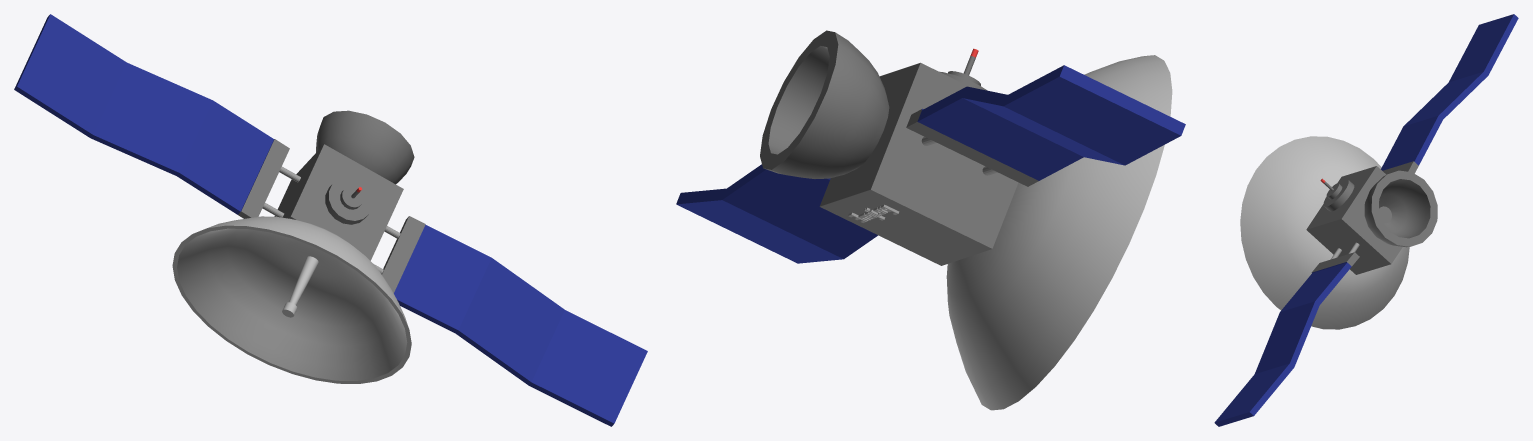
The model's file is satellite.fbx.
The picture shows the model from 3 angles, left to right: view 1: azimuth 30°, elevation 25°; view 2: azimuth 150°, elevation 25°; view 3: azimuth 270°, elevation 25°; orthographic projection. The views are drawn at different scales.
Parts seen in each view (by area): view 1: Cube.869; view 2: Cube.869; view 3: Cube.869.
Boxes of the visible parts, x1,y1,x2,y2 form: Cube.869: (14,14,647,426); Cube.869: (676,30,1185,410); Cube.869: (1214,14,1518,426).
Size of the model in its own units: 250 by 179 by 179.
1 material, 1 textured.
